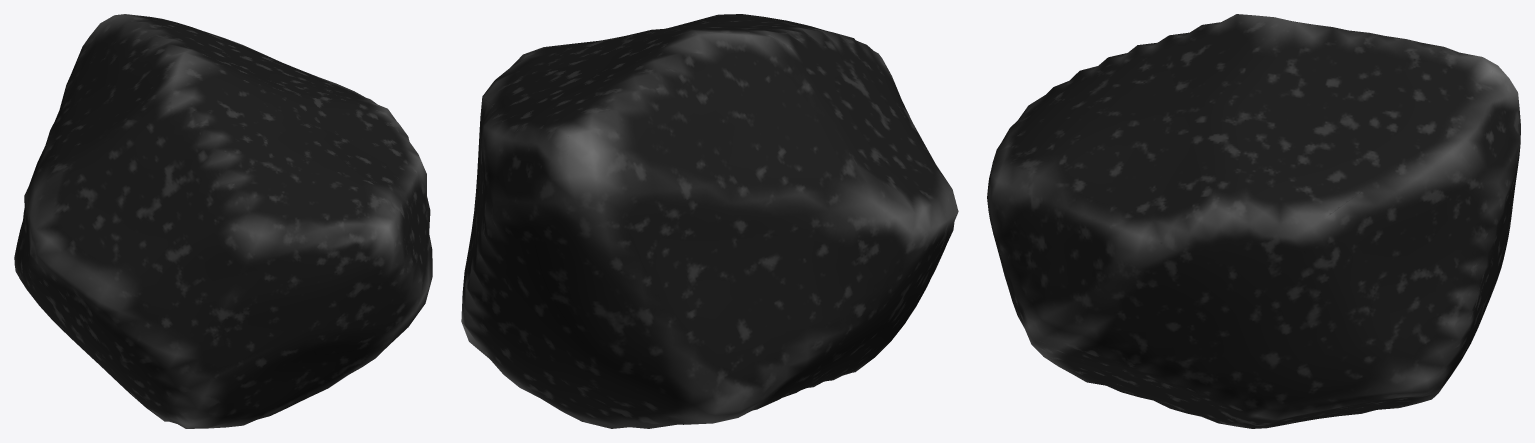
The model's file is lunar_rock13.glb.
3 views of the same model, side by side, from view 1: azimuth 30°, elevation 25°; view 2: azimuth 150°, elevation 25°; view 3: azimuth 270°, elevation 25° (orthographic). The views are drawn at different scales.
Visible parts, largest first — view 1: lunar_rock_13; view 2: lunar_rock_13; view 3: lunar_rock_13.
Boxes of the visible parts, x1,y1,x2,y2 form: lunar_rock_13: (14,14,432,428); lunar_rock_13: (461,14,958,428); lunar_rock_13: (987,14,1520,428).
Size of the model in its own units: 0.1246 by 0.1061 by 0.1405.
1 material, 1 textured.
